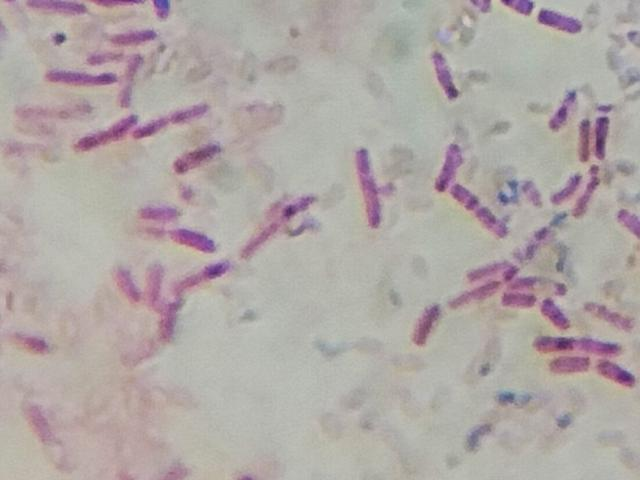E. coli: (244, 185, 317, 267), (546, 354, 638, 391), (134, 97, 217, 138), (350, 143, 387, 227), (530, 329, 627, 358), (454, 186, 505, 236), (42, 61, 111, 93), (430, 44, 464, 106), (83, 110, 137, 149), (168, 138, 222, 176), (539, 4, 586, 43), (409, 293, 442, 348), (173, 260, 228, 289), (149, 229, 215, 252), (587, 295, 632, 328), (22, 401, 55, 446), (120, 50, 145, 108), (547, 90, 582, 129), (29, 0, 94, 20), (451, 279, 495, 308), (435, 143, 465, 185), (109, 28, 163, 51), (11, 328, 53, 357), (153, 301, 178, 344), (572, 116, 593, 166), (550, 167, 580, 201), (578, 172, 599, 219), (514, 274, 560, 295), (141, 199, 180, 222), (107, 266, 137, 294), (594, 110, 610, 161), (541, 293, 564, 328), (618, 202, 640, 237), (467, 260, 507, 279), (146, 264, 166, 297), (500, 0, 530, 20), (500, 292, 534, 309), (90, 45, 116, 67)
